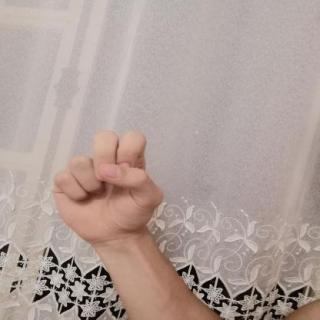QAAF: (40, 123, 178, 252)
